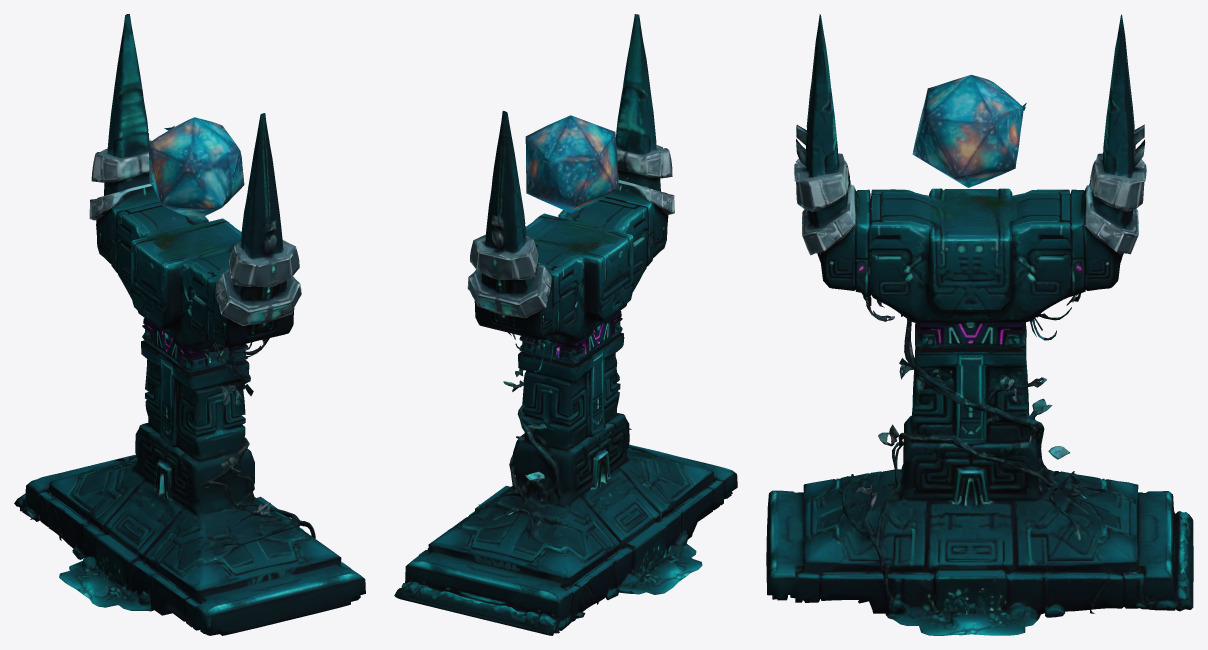
The model's file is NODO.fbx.
3 views of the same model, side by side, from view 1: azimuth 30°, elevation 25°; view 2: azimuth 150°, elevation 25°; view 3: azimuth 270°, elevation 25° (orthographic). The views are drawn at different scales.
Visible parts, largest first — view 1: tripo_node_e348b84b; view 2: tripo_node_e348b84b; view 3: tripo_node_e348b84b.
Boxes of the visible parts, bbox=[...] form: tripo_node_e348b84b: bbox=[14, 14, 365, 635]; tripo_node_e348b84b: bbox=[394, 14, 737, 635]; tripo_node_e348b84b: bbox=[766, 14, 1193, 635].
Size of the model in its own units: 48.6 by 100 by 69.3.
1 material, 1 textured.
